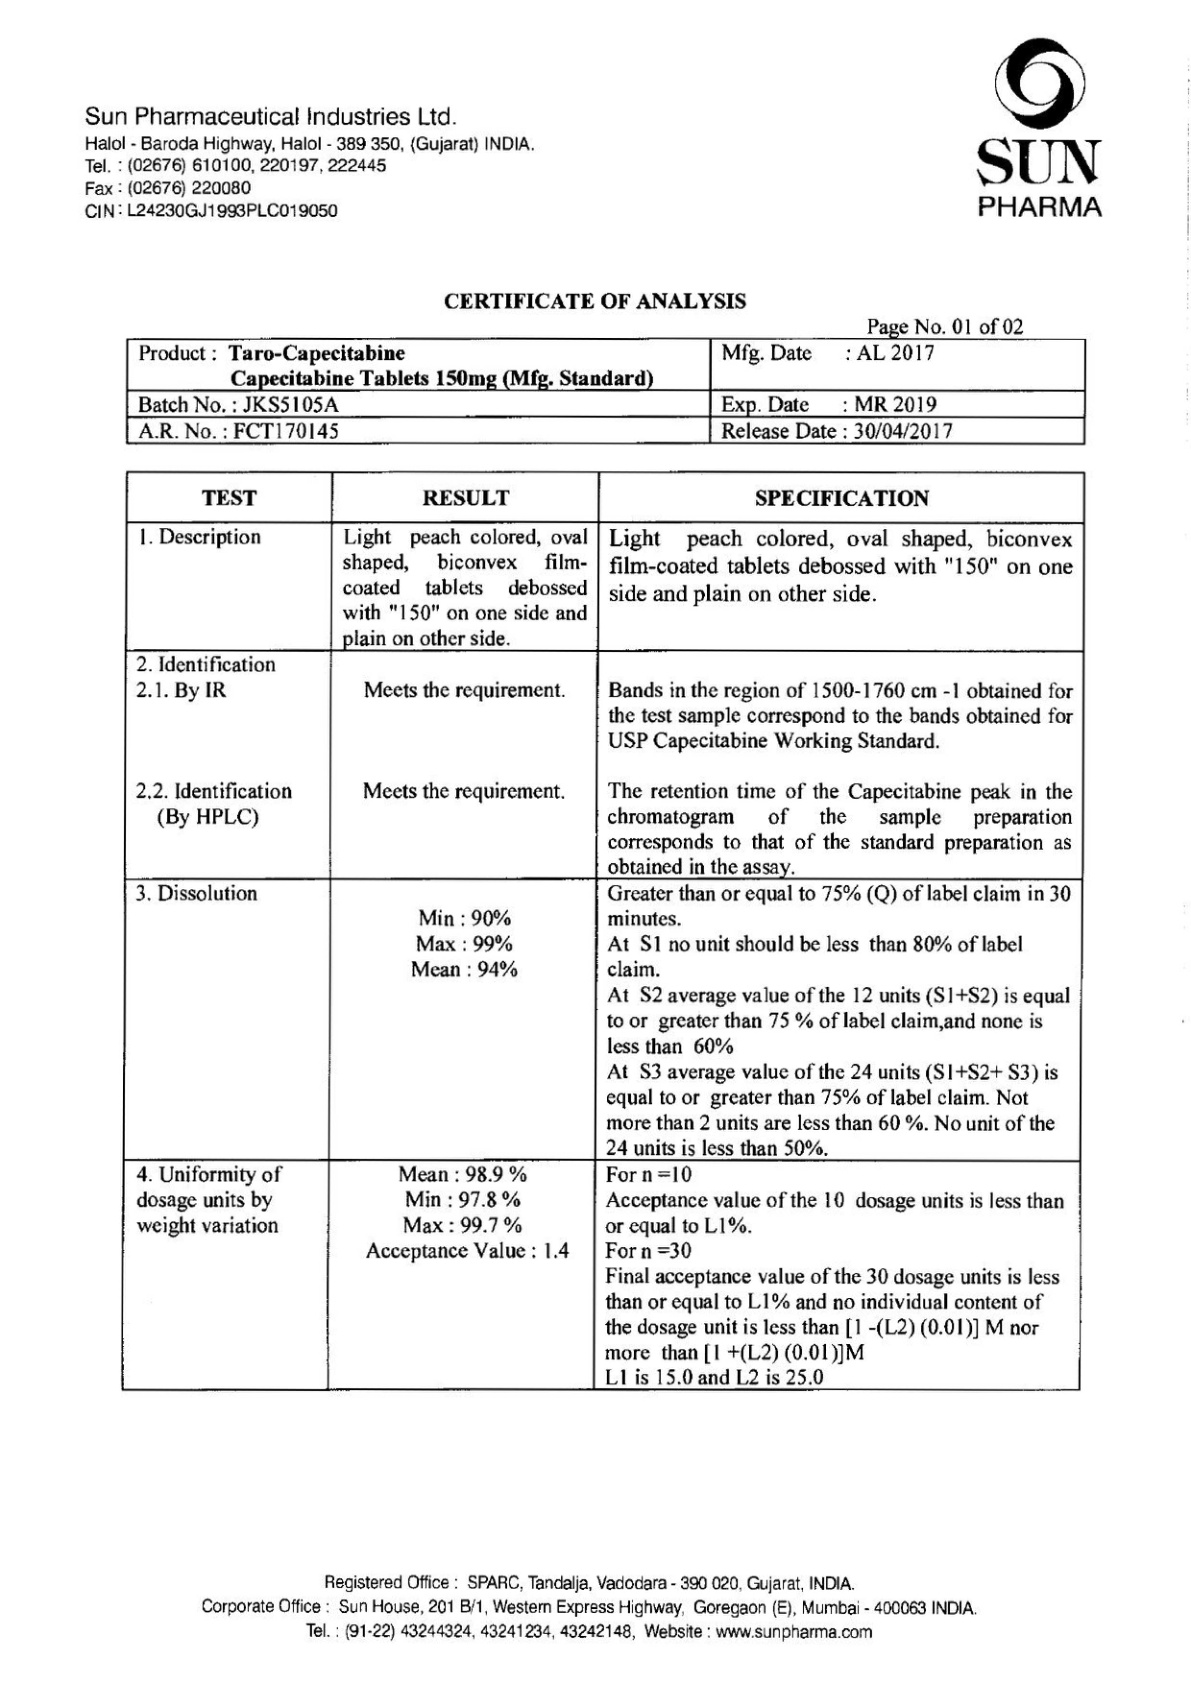full_lined: (120, 469, 1087, 1392), (125, 336, 1087, 446)
